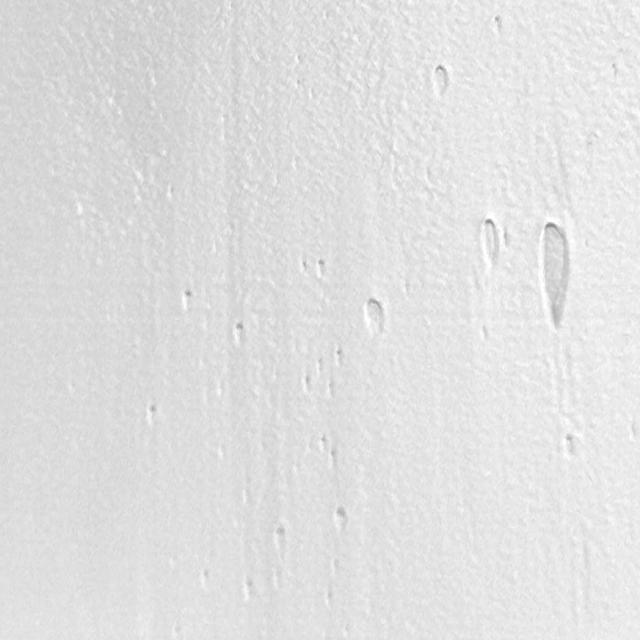pin holes: (540, 216, 572, 334), (474, 217, 506, 270), (362, 298, 386, 332), (431, 64, 453, 98), (558, 431, 580, 462), (330, 504, 350, 534), (176, 286, 196, 313), (142, 401, 161, 428), (231, 318, 249, 346), (270, 526, 288, 554), (239, 577, 256, 602), (488, 13, 504, 36), (624, 419, 637, 444), (314, 256, 328, 278), (197, 569, 211, 589), (326, 446, 338, 469), (331, 347, 344, 368), (300, 372, 312, 394), (324, 377, 336, 399), (316, 434, 328, 452), (323, 588, 334, 607), (297, 258, 309, 275), (292, 52, 304, 67), (315, 359, 326, 374), (293, 77, 304, 92)
